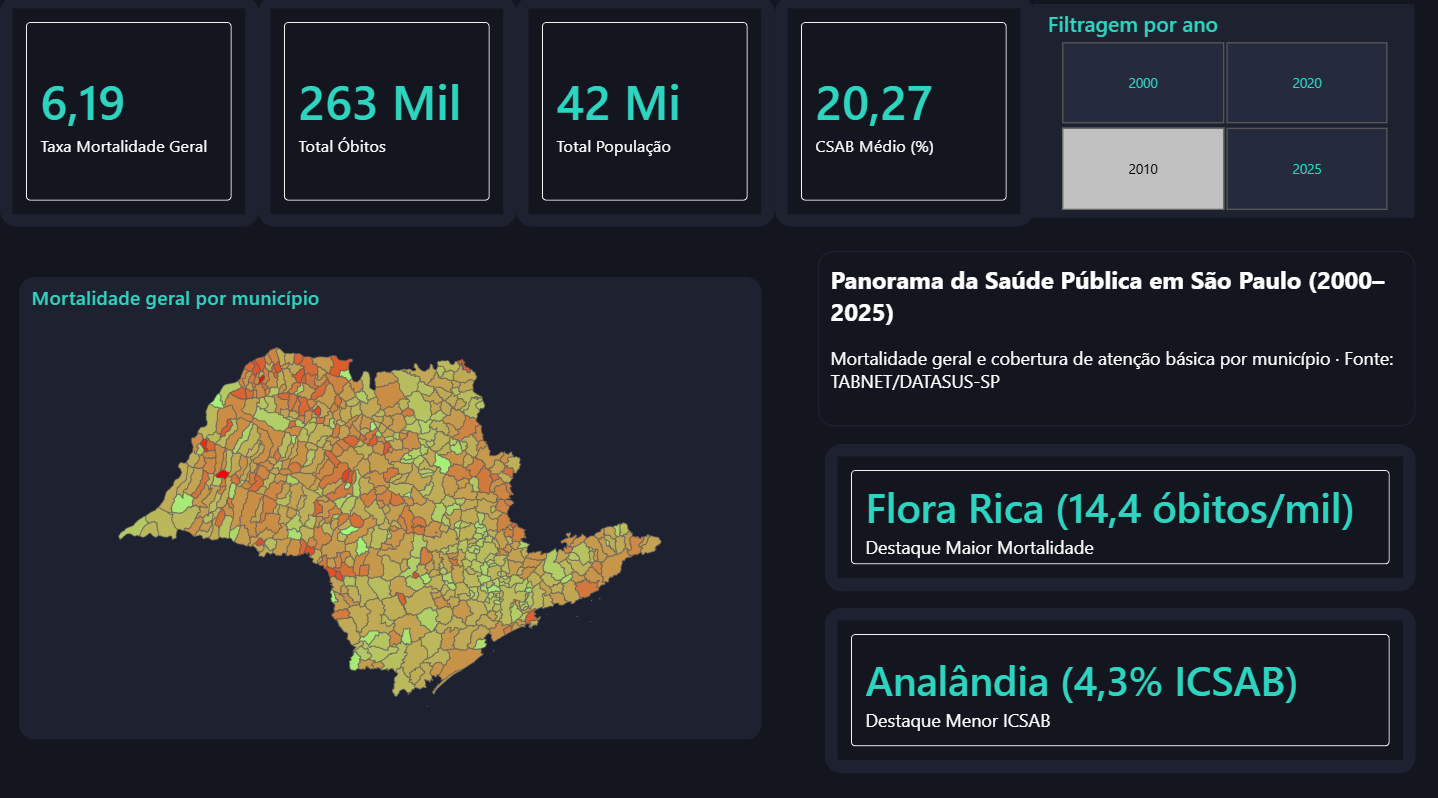

The dashboard page shown, as its layout file describes it:
{"tool":"powerbi","page":{"name":"Visão Geral","canvas":[1280,720],"ordinal":0},"visuals":[{"type":"cardVisual","fields":{"Data":["dataset_final_projeto_saude_sp_BR_1.Taxa Mortalidade Geral"]},"box":[0,0,229.5,205.2],"z":0},{"type":"cardVisual","fields":{"Data":["dataset_final_projeto_saude_sp_BR_1.Total Óbitos"]},"box":[229.5,0,229.5,205.2],"z":1000},{"type":"cardVisual","fields":{"Data":["dataset_final_projeto_saude_sp_BR_1.Total População"]},"box":[459.1,0,229.5,205.2],"z":2000},{"type":"cardVisual","fields":{"Data":["dataset_final_projeto_saude_sp_BR_1.CSAB Médio (%)"]},"box":[688.6,0,229.5,205.2],"z":3000},{"type":"slicer","title":"Filtragem por ano","fields":{"Values":["dataset_final_projeto_saude_sp_BR_1.ano"]},"box":[918.2,7.1,339.5,189.7],"z":4000},{"type":"shapeMap","title":"Mortalidade geral por município","fields":{"Category":["dataset_final_projeto_saude_sp_BR_1.municipio_mapa"],"Value":["Sum(dataset_final_projeto_saude_sp_BR_1.taxa_mortalidade_por_mil)"]},"box":[16.9,249.8,659.6,410.7],"z":5000},{"type":"textbox","box":[727.1,226.7,530.7,156.4],"z":6000},{"type":"cardVisual","fields":{"Data":["dataset_final_projeto_saude_sp_BR_1.Destaque Maior Mortalidade"]},"box":[733.3,398.2,525,130.7],"z":7000},{"type":"cardVisual","fields":{"Data":["dataset_final_projeto_saude_sp_BR_1.Destaque Menor ICSAB"]},"box":[733.3,544,525,146.7],"z":8000}]}

Visuals, with their boxes in screenshot pixels (x1, y1, x2, y2), scaled from the page's 1280x720 canvas onto the 1438x798 screenshot:
cardVisual - dataset_final_projeto_saude_sp_BR_1.Taxa Mortalidade Geral: x1=0 y1=0 x2=258 y2=227
cardVisual - dataset_final_projeto_saude_sp_BR_1.Total Óbitos: x1=258 y1=0 x2=516 y2=227
cardVisual - dataset_final_projeto_saude_sp_BR_1.Total População: x1=516 y1=0 x2=774 y2=227
cardVisual - dataset_final_projeto_saude_sp_BR_1.CSAB Médio (%): x1=774 y1=0 x2=1031 y2=227
"Filtragem por ano" slicer: x1=1032 y1=8 x2=1413 y2=218
"Mortalidade geral por município" shapeMap: x1=19 y1=277 x2=760 y2=732
textbox: x1=817 y1=251 x2=1413 y2=425
cardVisual - dataset_final_projeto_saude_sp_BR_1.Destaque Maior Mortalidade: x1=824 y1=441 x2=1414 y2=586
cardVisual - dataset_final_projeto_saude_sp_BR_1.Destaque Menor ICSAB: x1=824 y1=603 x2=1414 y2=766
